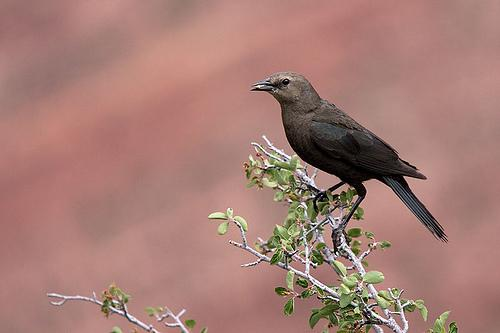009.Brewer_Blackbird: (250, 70, 449, 245)
